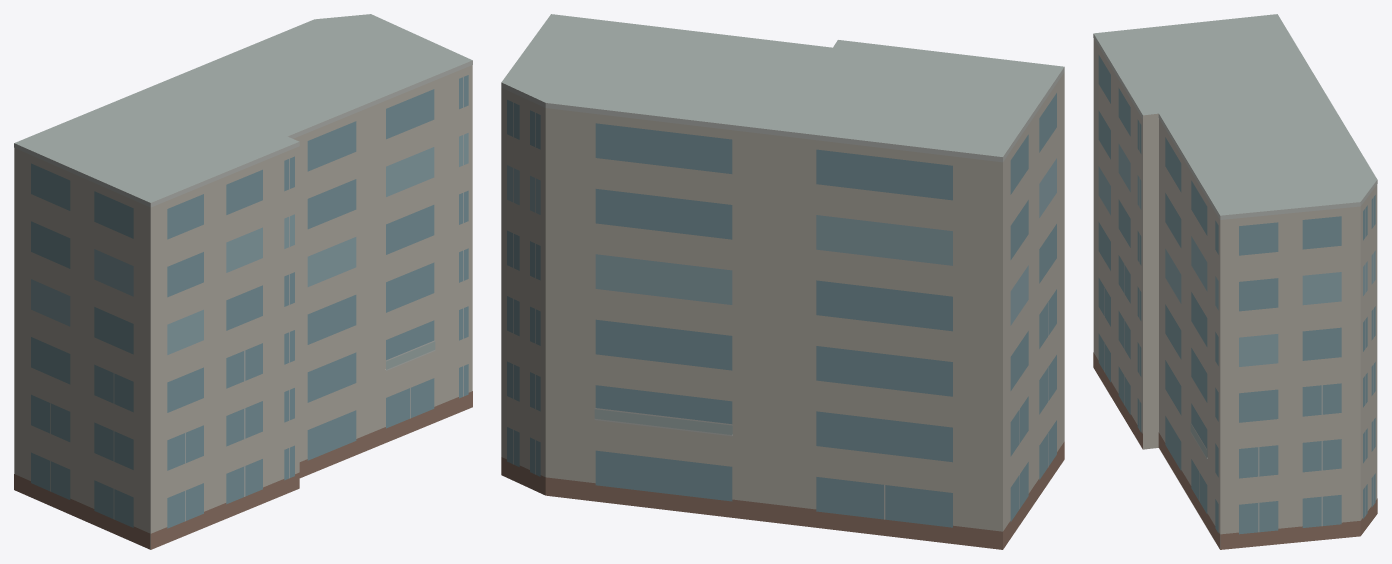
File: survey-upis-32707659.glb
The picture shows the model from 3 angles, left to right: view 1: azimuth 30°, elevation 25°; view 2: azimuth 150°, elevation 25°; view 3: azimuth 270°, elevation 25°; orthographic projection. The views are drawn at different scales.
Visible parts, largest first — view 1: survey-upis-32707659.tmp; view 2: survey-upis-32707659.tmp; view 3: survey-upis-32707659.tmp.
Boxes of the visible parts, bbox=[...] form: survey-upis-32707659.tmp: bbox=[14, 14, 472, 549]; survey-upis-32707659.tmp: bbox=[501, 14, 1064, 549]; survey-upis-32707659.tmp: bbox=[1093, 14, 1377, 549].
Size of the model in its own units: 23.95 by 18.5 by 14.26.
